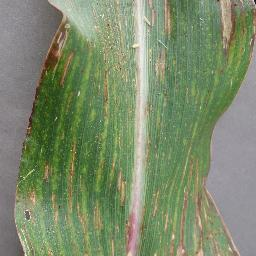Gray_Leaf_Spot: (9, 177, 122, 256), (183, 151, 242, 256), (94, 0, 142, 85), (40, 0, 79, 89), (23, 86, 50, 177), (146, 0, 176, 81), (214, 0, 256, 57), (163, 198, 182, 256), (143, 121, 165, 171), (123, 208, 143, 256), (96, 136, 118, 175), (98, 86, 110, 129), (150, 183, 162, 219), (68, 138, 79, 176), (121, 166, 128, 203), (145, 101, 160, 118)
